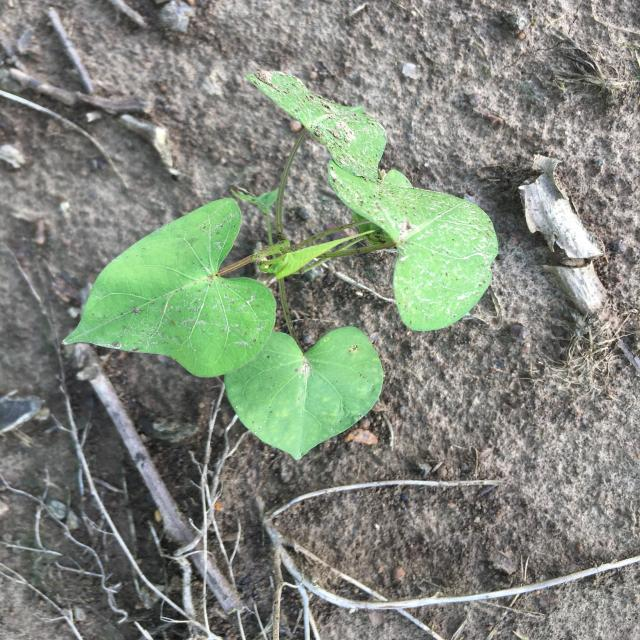MorningGlory: (62, 72, 498, 460)
